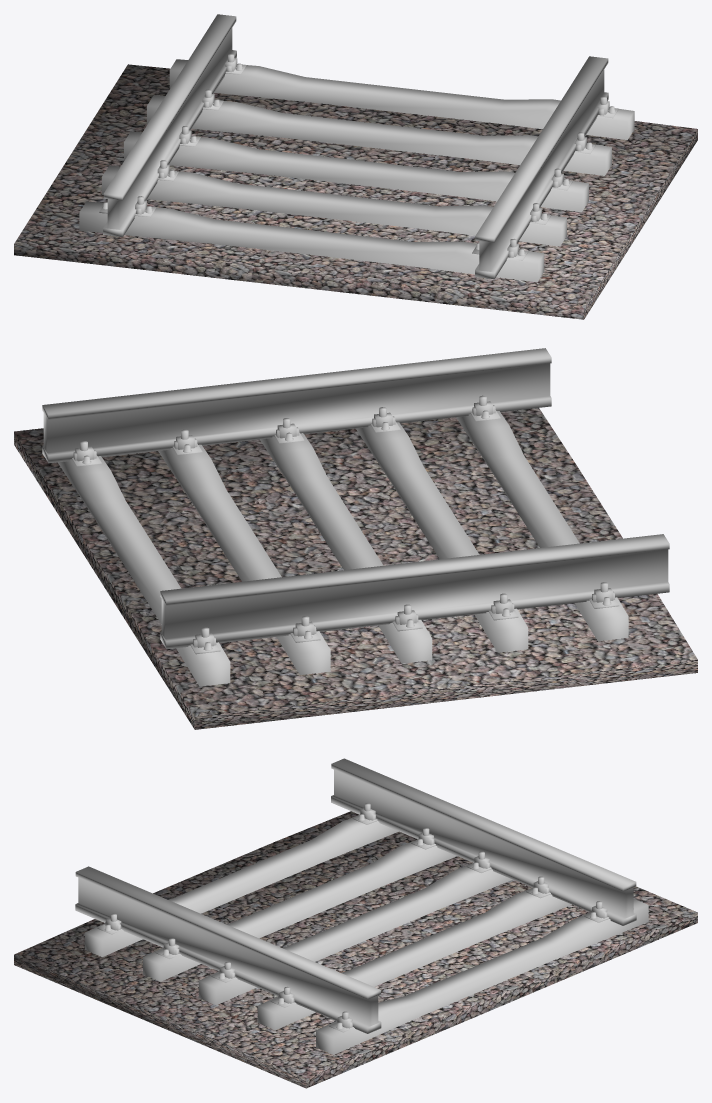
File: track_straigh45_concrete.fbx
3 renders of one model, top to bottom at view 1: azimuth 30°, elevation 25°; view 2: azimuth 150°, elevation 25°; view 3: azimuth 270°, elevation 25°, orthographic. The views are drawn at different scales.
Visible parts, largest first — view 1: ground, concrete, rails; view 2: ground, rails, concrete; view 3: ground, concrete, rails.
Boxes of the visible parts, x1,y1,x2,y2 form: ground: [14, 64, 697, 319]; concrete: [79, 59, 634, 282]; rails: [99, 14, 618, 279]; ground: [14, 408, 697, 729]; rails: [42, 348, 669, 654]; concrete: [57, 411, 628, 686]; ground: [14, 811, 697, 1088]; concrete: [84, 815, 648, 1054]; rails: [75, 758, 636, 1033].
Size of the model in its own units: 3.52 by 0.381 by 3.52.
